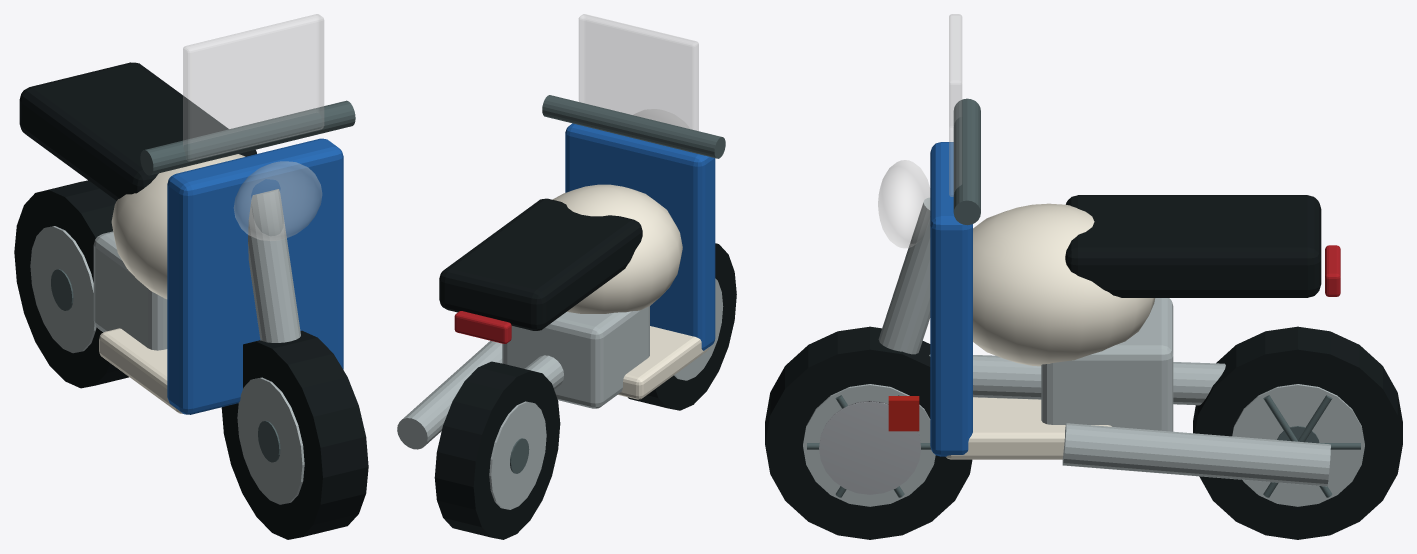
The model's file is hiperreal-hd.glb.
The picture shows the model from 3 angles, left to right: view 1: azimuth 30°, elevation 25°; view 2: azimuth 150°, elevation 25°; view 3: azimuth 270°, elevation 25°; orthographic projection. The views are drawn at different scales.
Visible parts, largest first — view 1: Scooter apron, Tyre.001, Windshield, Saddle, Tyre, Fork, Handlebar, Rim.001, Rim, Fuel tank, Headlight, Engine (+3 smaller); view 2: Saddle, Scooter apron, Tyre, Windshield, Engine, Fuel tank, Handlebar, Rim, Tyre.001, Exhaust, Footboard, Rear light (+4 smaller); view 3: Saddle, Tyre, Fuel tank, Tyre.001, Scooter apron, Exhaust, Engine, Rim, Hiperreal disco de freno, Footboard, Fork, Frame (+6 smaller).
Boxes of the visible parts, <box> form: Scooter apron: <box>167,138,343,414</box>; Tyre.001: <box>221,330,368,539</box>; Windshield: <box>183,14,323,160</box>; Saddle: <box>19,62,256,200</box>; Tyre: <box>14,180,128,388</box>; Fork: <box>248,189,300,342</box>; Handlebar: <box>140,100,355,175</box>; Rim.001: <box>237,377,304,504</box>; Rim: <box>30,226,96,353</box>; Fuel tank: <box>111,154,245,299</box>; Headlight: <box>234,161,321,240</box>; Engine: <box>93,231,167,350</box>; Saddle: <box>439,198,642,330</box>; Scooter apron: <box>565,123,715,350</box>; Tyre: <box>434,361,560,539</box>; Windshield: <box>579,14,698,130</box>; Engine: <box>502,306,649,408</box>; Fuel tank: <box>552,184,682,313</box>; Handlebar: <box>542,95,725,158</box>; Rim: <box>489,401,546,509</box>; Tyre.001: <box>628,243,736,410</box>; Exhaust: <box>397,340,502,449</box>; Footboard: <box>618,326,709,399</box>; Rear light: <box>454,311,511,343</box>; Saddle: <box>1065,195,1321,297</box>; Tyre: <box>1193,326,1402,539</box>; Fuel tank: <box>973,203,1155,366</box>; Tyre.001: <box>765,326,972,539</box>; Scooter apron: <box>930,142,972,456</box>; Exhaust: <box>1062,423,1330,486</box>; Engine: <box>1041,298,1173,431</box>; Rim: <box>1232,384,1364,506</box>; Hiperreal disco de freno: <box>819,400,920,494</box>; Footboard: <box>946,397,1111,459</box>; Fork: <box>878,197,930,354</box>; Frame: <box>929,354,1225,405</box>.
Size of the model in its own units: 0.3571 by 0.78 by 0.9371.
